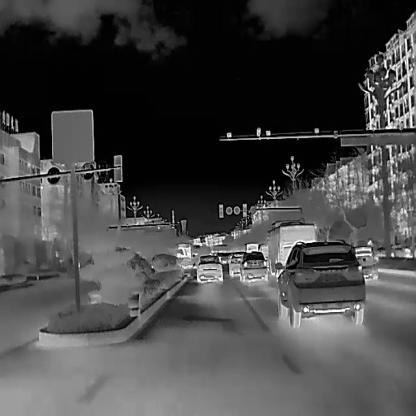car: (272, 238, 364, 329), (264, 217, 316, 280), (352, 244, 377, 280), (195, 254, 222, 283), (239, 250, 266, 279), (174, 241, 192, 279), (227, 251, 245, 275), (257, 241, 270, 259), (243, 242, 257, 251)
